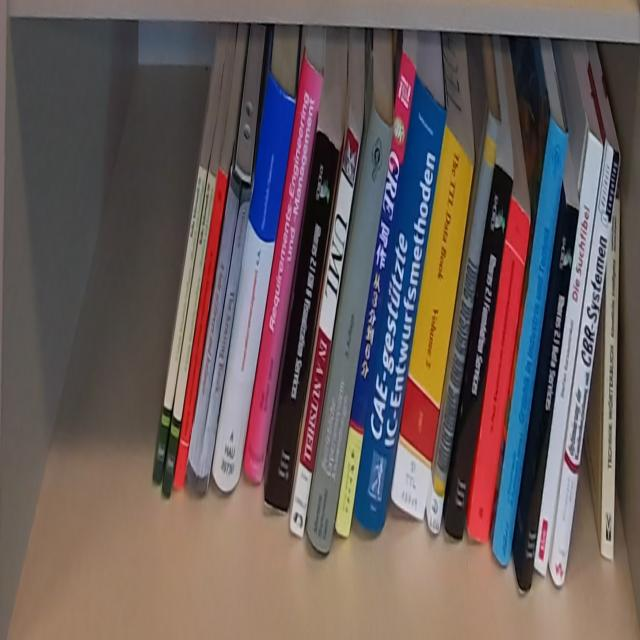Book Spine: (353, 72, 445, 536), (303, 93, 394, 556), (334, 51, 417, 541), (211, 65, 298, 497), (243, 52, 326, 484), (491, 119, 568, 567), (390, 121, 474, 529), (547, 137, 622, 585), (426, 113, 500, 534), (536, 132, 605, 580), (292, 128, 360, 542), (442, 160, 514, 546), (267, 133, 340, 506), (519, 200, 577, 595), (467, 197, 533, 543), (173, 168, 232, 492), (151, 163, 209, 484), (161, 171, 216, 499), (195, 186, 253, 493), (187, 177, 239, 488), (601, 195, 620, 566)
